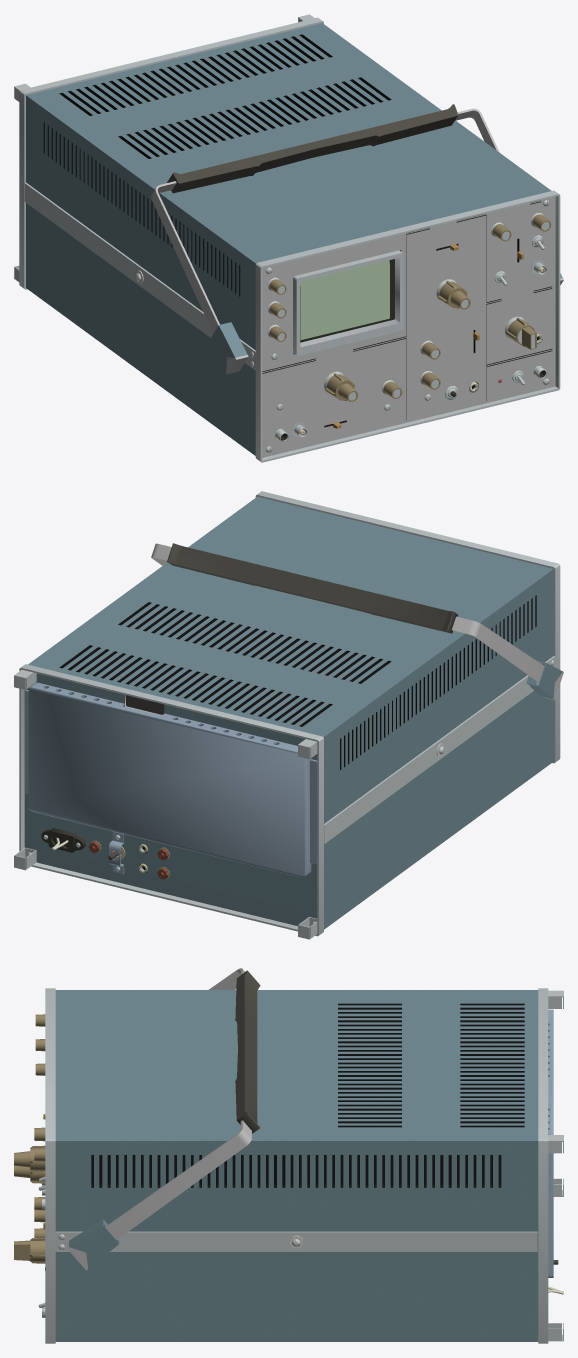
The model's file is oscilloscope.glb.
The picture shows the model from 3 angles, top to bottom: view 1: azimuth 30°, elevation 25°; view 2: azimuth 150°, elevation 25°; view 3: azimuth 270°, elevation 25°; orthographic projection. The views are drawn at different scales.
Visible parts, largest first — view 1: Cube_Material.014_0; view 2: Cube_Material.014_0; view 3: Cube_Material.014_0.
Boxes of the visible parts, x1,y1,x2,y2 form: Cube_Material.014_0: [14, 14, 563, 462]; Cube_Material.014_0: [14, 491, 563, 939]; Cube_Material.014_0: [14, 968, 563, 1343].
Bounding box in the file's own units: 0.3914 × 0.2579 × 0.5455.
1 material, 1 textured.
